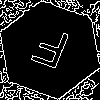F: (25, 25, 73, 79)
